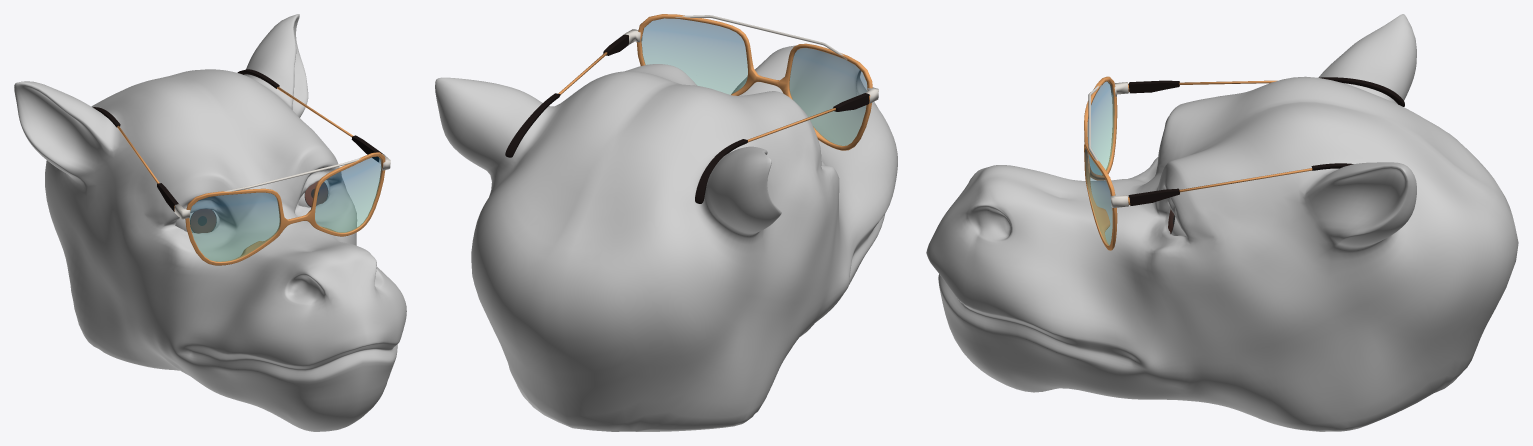
The model's file is camel.gltf.
3 views of the same model, side by side, from view 1: azimuth 30°, elevation 25°; view 2: azimuth 150°, elevation 25°; view 3: azimuth 270°, elevation 25° (orthographic). The views are drawn at different scales.
Visible parts, largest first — view 1: camel.002, glasses, eyeball.001; view 2: camel.002, glasses; view 3: camel.002, glasses.
Part boxes in pixels (<box>): camel.002: <box>14,14,406,431</box>; glasses: <box>93,69,390,265</box>; eyeball.001: <box>175,180,329,233</box>; camel.002: <box>435,45,897,431</box>; glasses: <box>505,14,878,203</box>; camel.002: <box>926,14,1518,431</box>; glasses: <box>1084,76,1404,250</box>.
Bounding box in the file's own units: 1.6 × 1.41 × 2.54.
